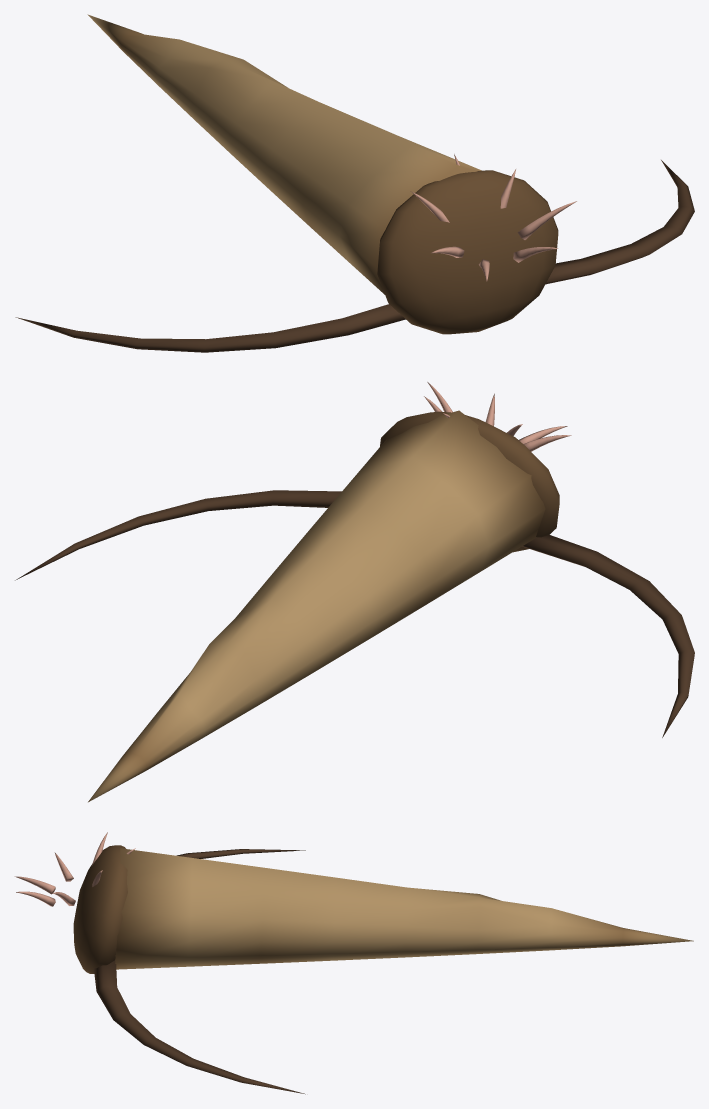
File: Haplophrentis.fbx
3 renders of one model, top to bottom at view 1: azimuth 30°, elevation 25°; view 2: azimuth 150°, elevation 25°; view 3: azimuth 270°, elevation 25°, orthographic. The views are drawn at different scales.
Visible parts, largest first — view 1: Haplophrentis; view 2: Haplophrentis; view 3: Haplophrentis.
Part boxes in pixels (<box>): Haplophrentis: <box>15,14,694,352</box>; Haplophrentis: <box>15,382,694,802</box>; Haplophrentis: <box>14,832,693,1094</box>.
Bounding box in the file's own units: 1 × 0.2428 × 1.18.
